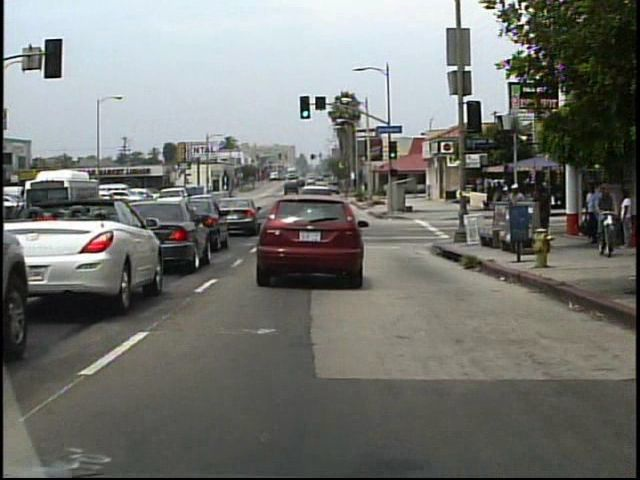person: (506, 181, 529, 239), (535, 177, 555, 242), (595, 182, 616, 241), (617, 190, 632, 247), (586, 182, 597, 238)
